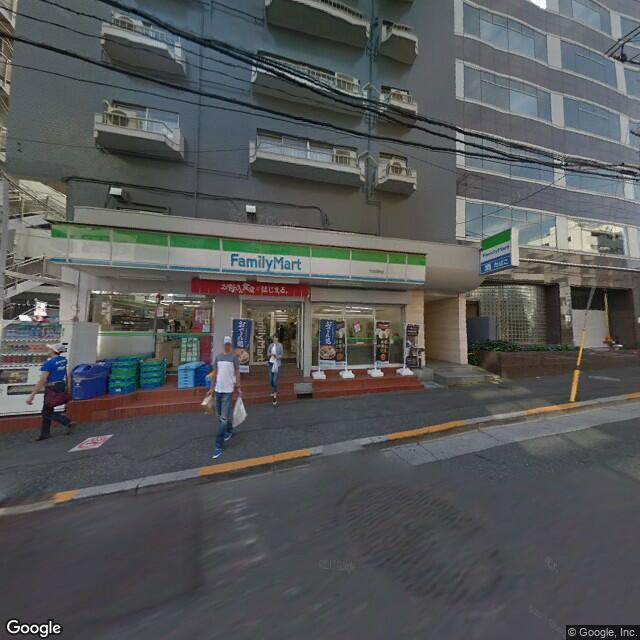family_mart: (48, 222, 427, 290), (227, 249, 304, 276), (479, 226, 515, 265)
